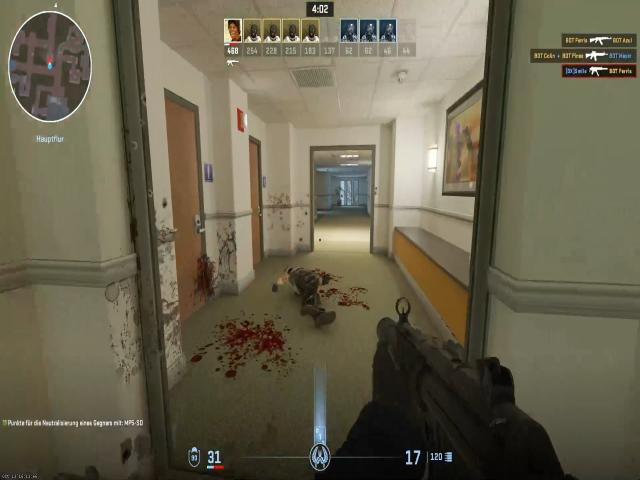Dead: (272, 262, 336, 328)
